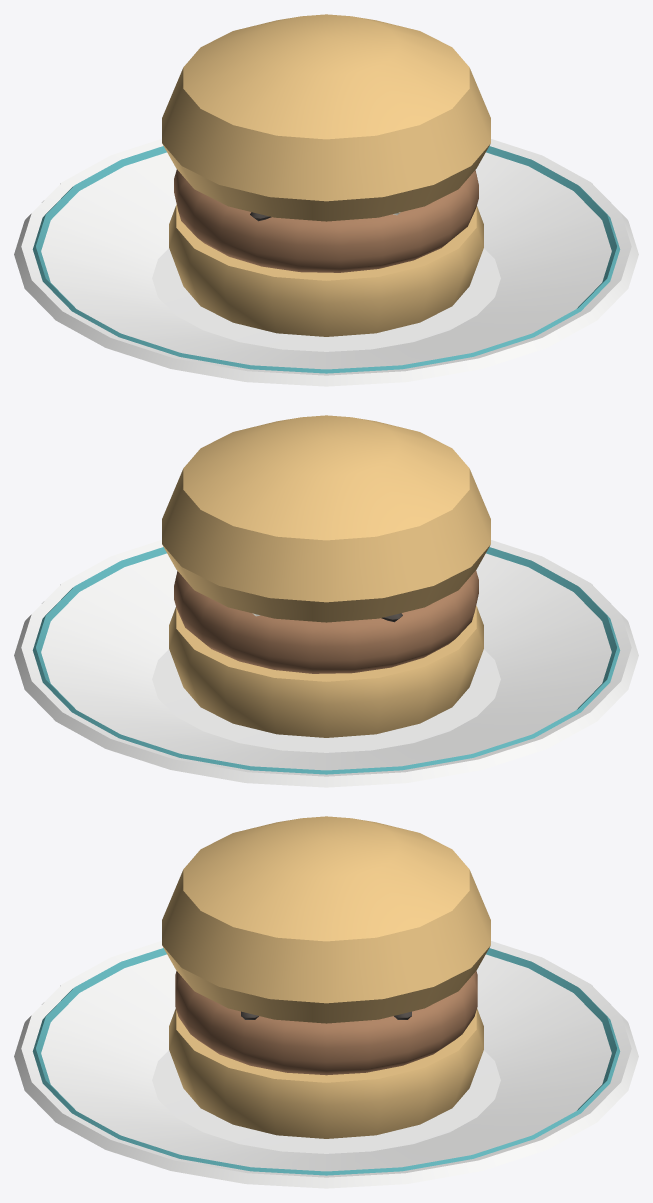
Rendered from kr_p_bun_patty.glb.
3 renders of one model, top to bottom at view 1: azimuth 30°, elevation 25°; view 2: azimuth 150°, elevation 25°; view 3: azimuth 270°, elevation 25°, orthographic.
Visible parts, largest first — view 1: vc_m0_r4, vc_m0_r2, vc_m0_r6; view 2: vc_m0_r4, vc_m0_r2, vc_m0_r6; view 3: vc_m0_r4, vc_m0_r2, vc_m0_r6.
Boxes of the visible parts, box(x1,y1,x2,y2) form: vc_m0_r4: box(32, 14, 620, 373); vc_m0_r2: box(14, 139, 638, 386); vc_m0_r6: box(174, 169, 478, 272); vc_m0_r4: box(32, 415, 620, 774); vc_m0_r2: box(14, 540, 638, 787); vc_m0_r6: box(174, 570, 478, 673); vc_m0_r4: box(32, 816, 620, 1175); vc_m0_r2: box(14, 941, 638, 1188); vc_m0_r6: box(175, 971, 477, 1075).
Bounding box in the file's own units: 0.43 × 0.2 × 0.43.
